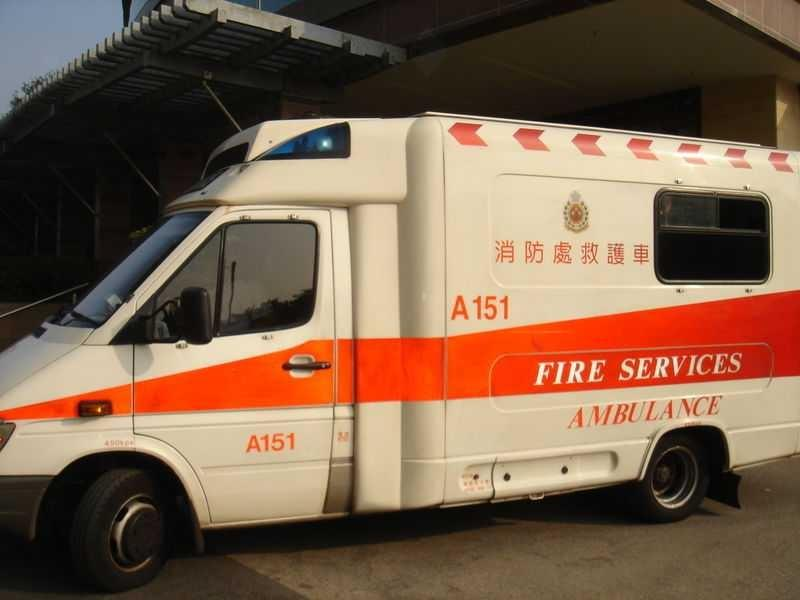car: (0, 110, 799, 592)
